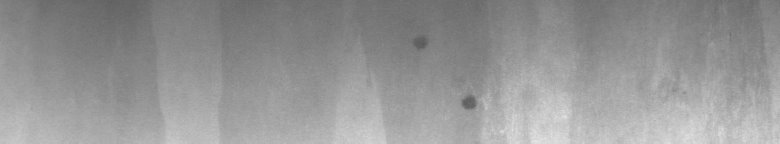fi: (413, 38, 488, 116)
